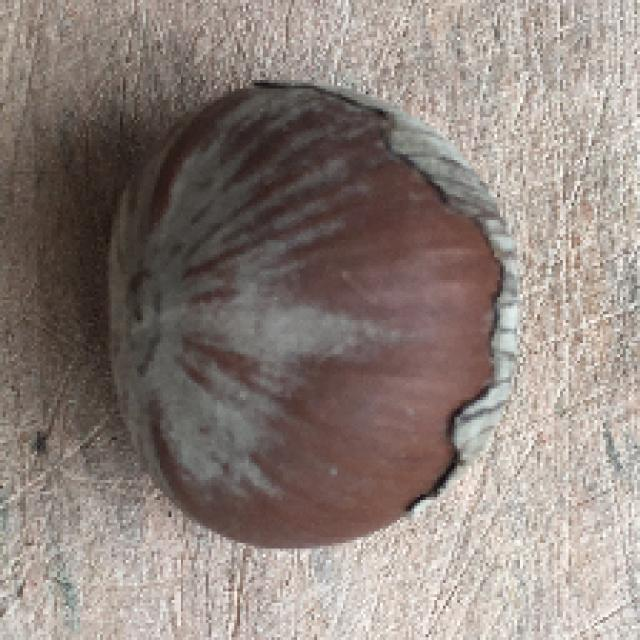damagedHazelnut: (97, 73, 521, 557)
